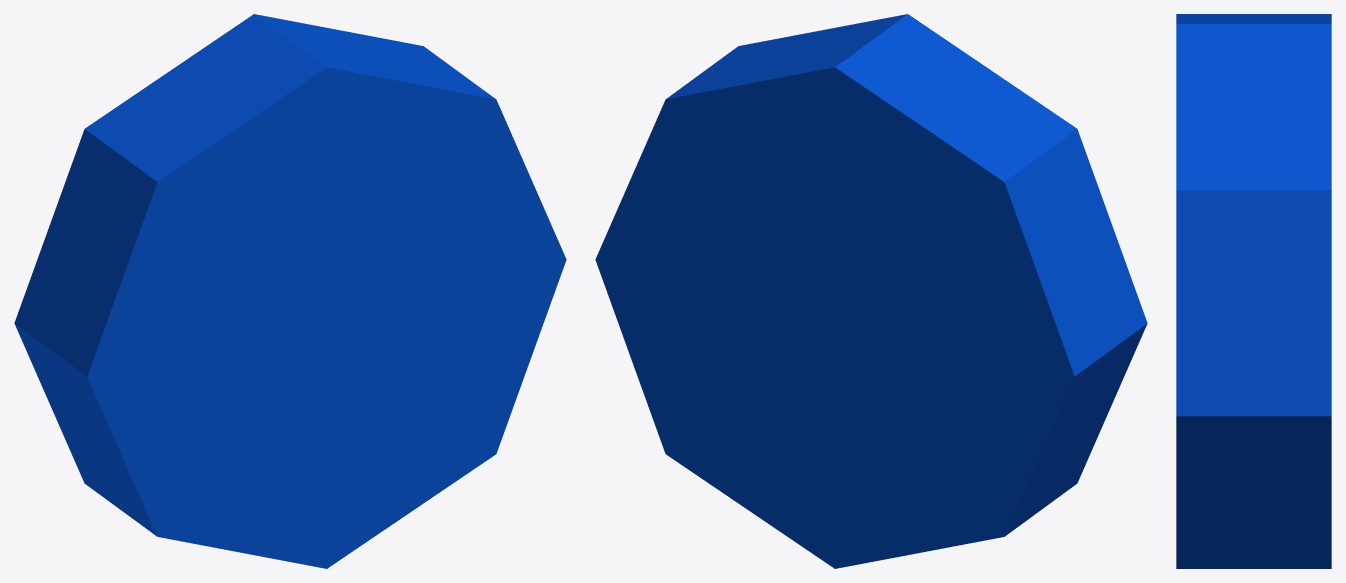
File: Boton08.fbx
3 views of the same model, side by side, from view 1: azimuth 30°, elevation 25°; view 2: azimuth 150°, elevation 25°; view 3: azimuth 270°, elevation 25° (orthographic). The views are drawn at different scales.
Parts seen in each view (by area): view 1: Boton08; view 2: Boton08; view 3: Boton08.
Part boxes in pixels (bbox=[...]): Boton08: bbox=[14, 14, 566, 568]; Boton08: bbox=[595, 14, 1147, 568]; Boton08: bbox=[1176, 14, 1331, 568].
Bounding box in the file's own units: 10 × 10 × 2.63.
